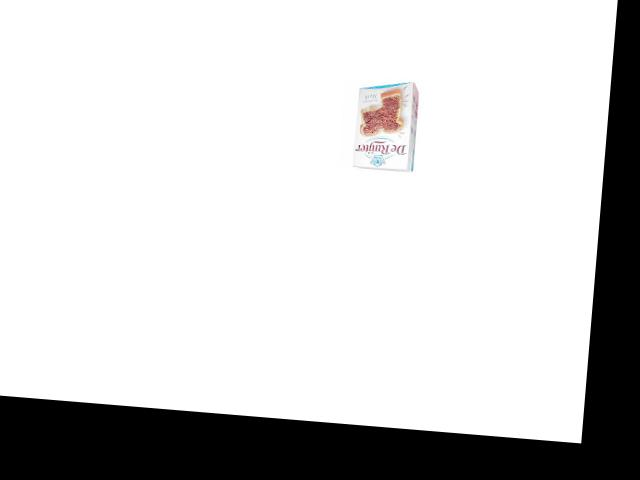chocolate: (343, 79, 428, 178)
